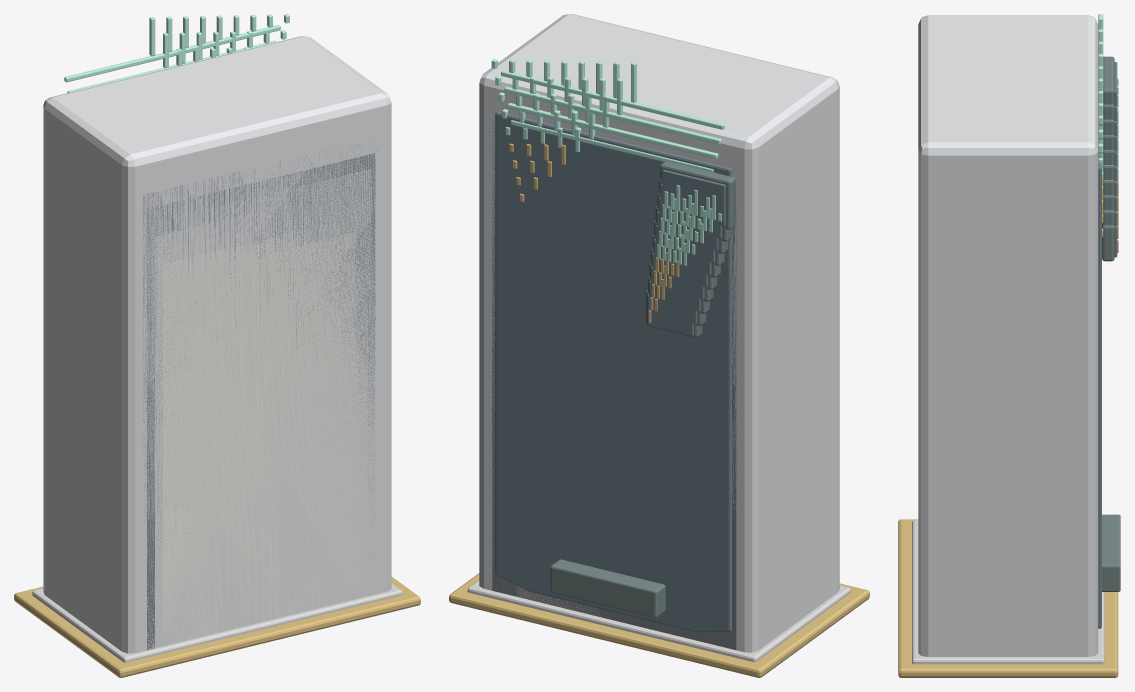
File: Gear10.fbx
3 renders of one model, left to right at view 1: azimuth 30°, elevation 25°; view 2: azimuth 150°, elevation 25°; view 3: azimuth 270°, elevation 25°, orthographic. The views are drawn at different scales.
Visible parts, largest first — view 1: Gear10_V10_Platinum, Gear10_V5_Platinum, Gear10_V3_Linen, Gear10_V2_Ivory, Gear10_V7_Graphite, Gear10_V9_Platinum, Gear10_V9_Gold, Gear10_V10_Gold, Gear10_V6_Platinum, Gear10_V10_Glow, Gear10_V10_Chrome, Gear10_V7_Chrome (+4 smaller); view 2: Gear10_V10_Platinum, Gear10_V2_Glass, Gear10_V10_Glass, Gear10_V1_Glass, Gear10_V6_Glass, Gear10_V9_Glass, Gear10_V3_Glass, Gear10_V4_Glass, Gear10_V8_Glass, Gear10_V8_Graphite, Gear10_V10_Gold, Gear10_V5_Glass (+17 smaller); view 3: Gear10_V10_Platinum, Gear10_V10_Gold, Gear10_V10_Glass, Gear10_V10_Chrome, Gear10_V9_Gold, Gear10_V10_Ink, Gear10_V10_Glow, Gear10_V2_Ink, Gear10_V6_Ink, Gear10_V5_Chrome, Gear10_V1_Ink, Gear10_V9_Chrome (+2 smaller).
Part boxes in pixels (x1,y1,x2,y2): Gear10_V10_Platinum: [43, 36, 391, 653]; Gear10_V5_Platinum: [155, 204, 367, 648]; Gear10_V3_Linen: [163, 222, 359, 644]; Gear10_V2_Ivory: [167, 233, 355, 611]; Gear10_V7_Graphite: [147, 153, 375, 650]; Gear10_V9_Platinum: [139, 122, 382, 651]; Gear10_V9_Gold: [68, 581, 415, 675]; Gear10_V10_Gold: [14, 577, 420, 677]; Gear10_V6_Platinum: [151, 169, 371, 513]; Gear10_V10_Glow: [64, 14, 289, 82]; Gear10_V10_Chrome: [32, 583, 402, 662]; Gear10_V7_Chrome: [138, 592, 389, 659]; Gear10_V10_Platinum: [479, 14, 839, 652]; Gear10_V2_Glass: [523, 238, 702, 632]; Gear10_V10_Glass: [495, 111, 731, 631]; Gear10_V1_Glass: [527, 253, 699, 632]; Gear10_V6_Glass: [509, 176, 716, 632]; Gear10_V9_Glass: [499, 130, 727, 631]; Gear10_V3_Glass: [520, 222, 706, 632]; Gear10_V4_Glass: [516, 208, 709, 632]; Gear10_V8_Glass: [502, 146, 723, 632]; Gear10_V8_Graphite: [492, 120, 736, 649]; Gear10_V10_Gold: [449, 573, 869, 677]; Gear10_V5_Glass: [513, 195, 713, 632]; Gear10_V10_Platinum: [918, 15, 1098, 656]; Gear10_V10_Gold: [898, 519, 1118, 677]; Gear10_V10_Glass: [1098, 62, 1117, 628]; Gear10_V10_Chrome: [912, 520, 1104, 664]; Gear10_V9_Gold: [898, 523, 1118, 668]; Gear10_V10_Ink: [1102, 56, 1120, 591]; Gear10_V10_Glow: [1098, 14, 1118, 125]; Gear10_V2_Ink: [1102, 210, 1120, 558]; Gear10_V6_Ink: [1102, 150, 1120, 562]; Gear10_V5_Chrome: [912, 547, 1103, 649]; Gear10_V1_Ink: [1102, 225, 1118, 549]; Gear10_V9_Chrome: [912, 522, 1103, 657].
Bounding box in the file's own units: 144 × 254 × 89.
